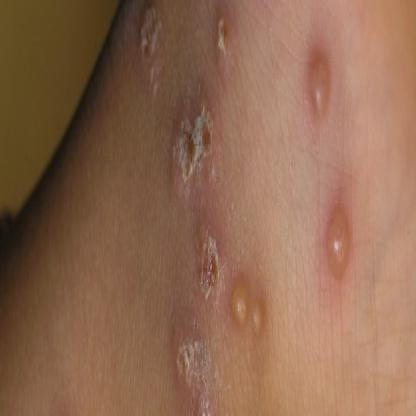Fire ant: (226, 268, 271, 355), (321, 203, 355, 294), (308, 59, 334, 128)
